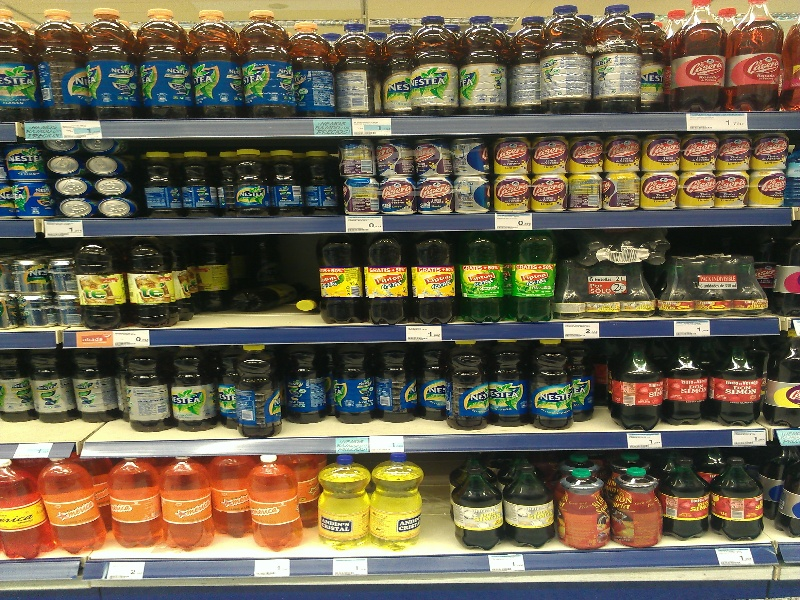lemonade: (240, 10, 301, 118), (133, 9, 190, 121), (185, 8, 245, 114), (540, 3, 597, 114), (673, 1, 728, 113), (156, 457, 219, 553), (731, 1, 782, 116), (82, 9, 135, 119), (249, 453, 306, 550), (591, 4, 641, 114), (35, 13, 87, 118), (374, 456, 429, 555), (453, 456, 508, 551), (314, 456, 372, 544), (411, 18, 462, 116), (459, 18, 511, 114), (509, 228, 558, 326), (332, 23, 383, 117), (527, 340, 578, 432), (485, 340, 532, 428), (450, 339, 490, 431)
